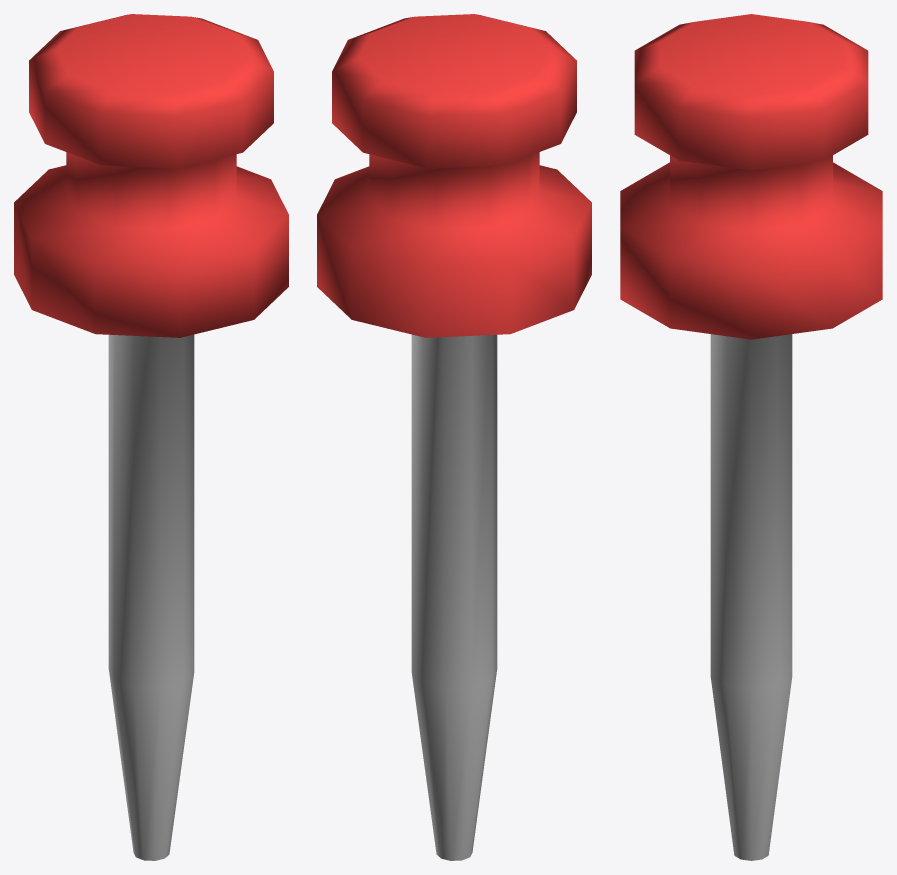
Rendered from geo_Thumbtack.fbx.
3 views of the same model, side by side, from view 1: azimuth 30°, elevation 25°; view 2: azimuth 150°, elevation 25°; view 3: azimuth 270°, elevation 25° (orthographic).
Parts seen in each view (by area): view 1: pCylinder1; view 2: pCylinder1; view 3: pCylinder1.
Boxes of the visible parts, bbox=[...] form: pCylinder1: bbox=[14, 14, 288, 860]; pCylinder1: bbox=[317, 14, 591, 860]; pCylinder1: bbox=[620, 14, 882, 860].
Bounding box in the file's own units: 4.08 × 13.02 × 3.88.
1 material, 1 textured.
